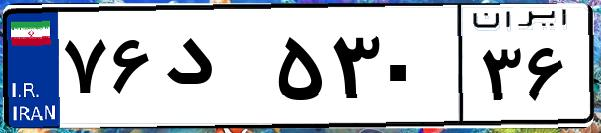0: (385, 28, 445, 110)
3: (330, 28, 385, 110), (475, 38, 525, 113)
5: (270, 28, 330, 110)
6: (525, 38, 570, 115), (110, 28, 158, 98)
7: (57, 26, 110, 100)
د: (158, 20, 270, 120)
